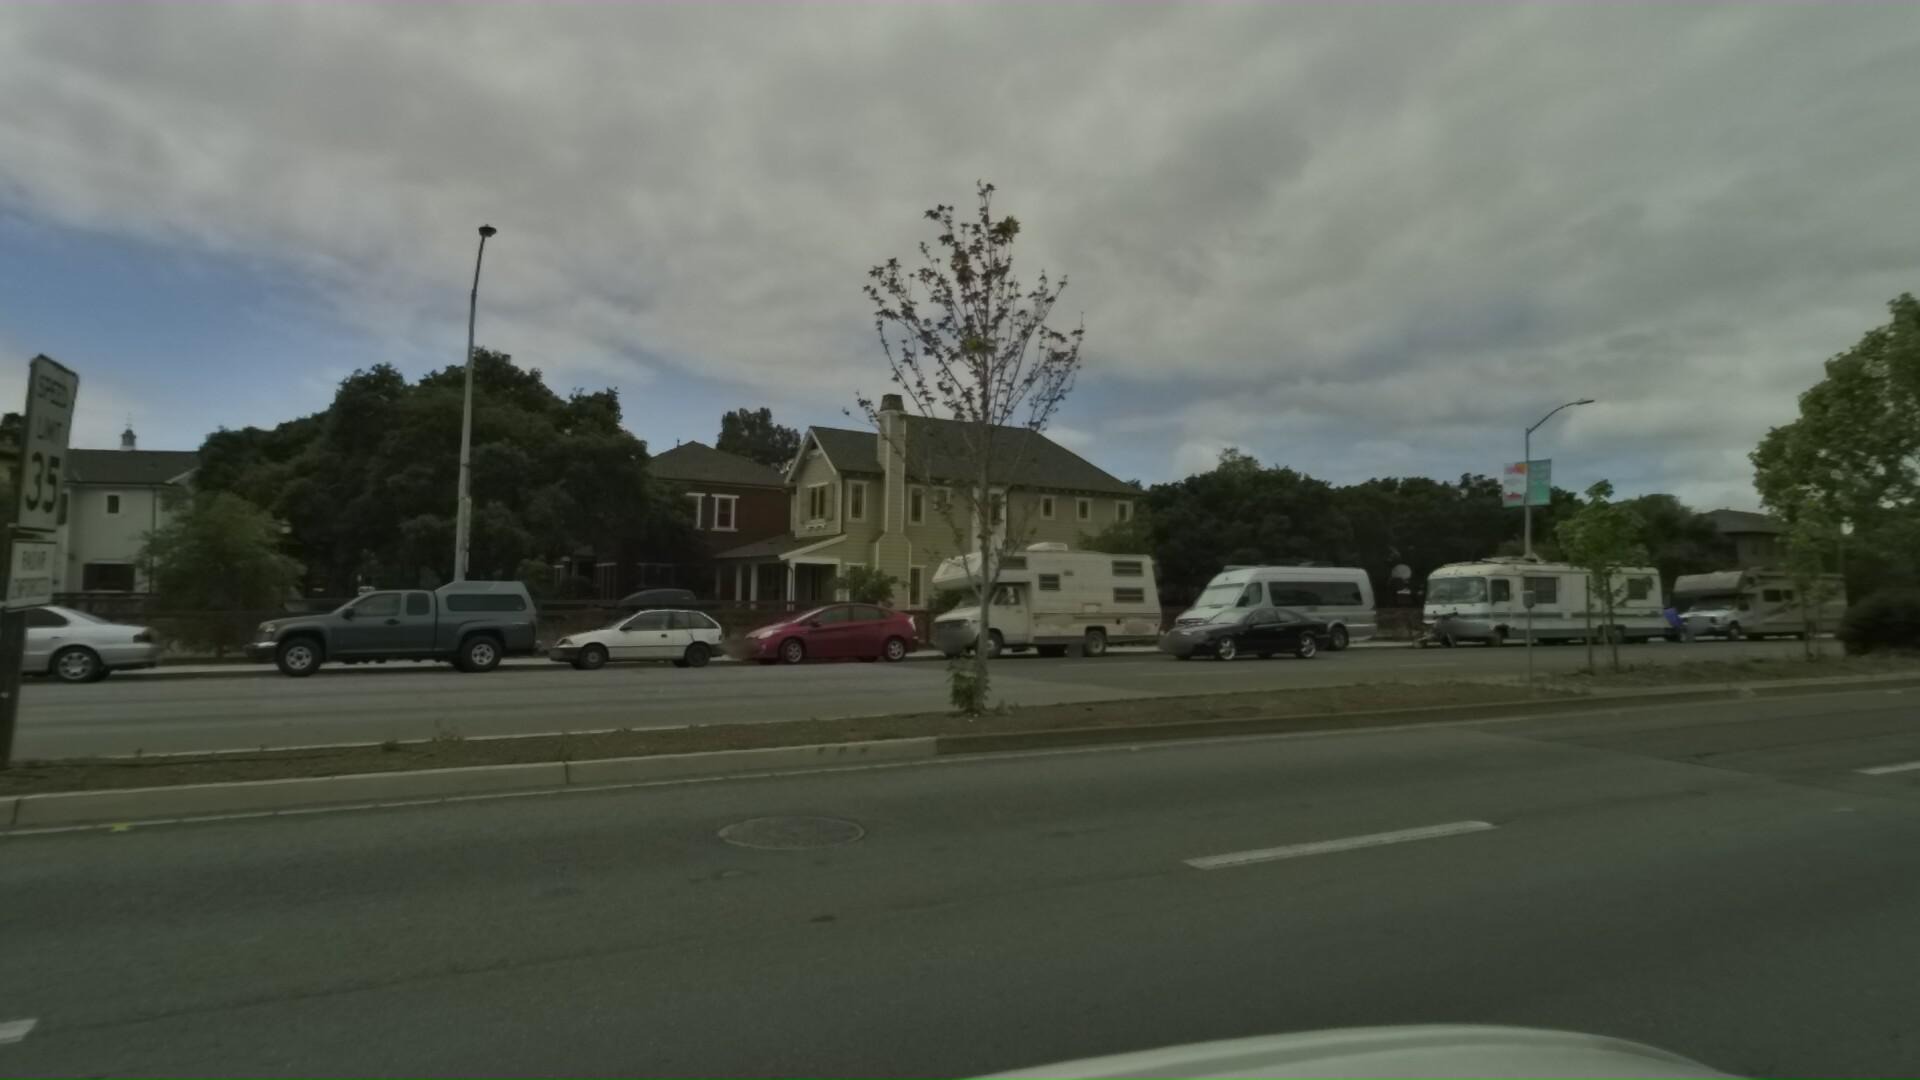car: (206, 564, 525, 682), (1139, 545, 1375, 651), (513, 580, 713, 676), (0, 587, 145, 705), (703, 589, 910, 661), (1126, 603, 1308, 670)
motorcycle: (1383, 601, 1460, 642)
other_vehicle: (899, 527, 1164, 657), (1393, 535, 1668, 644), (1644, 550, 1861, 634), (1611, 588, 1708, 638)
